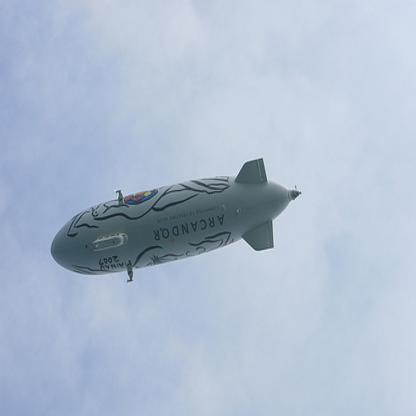Airship: (47, 156, 306, 287)
